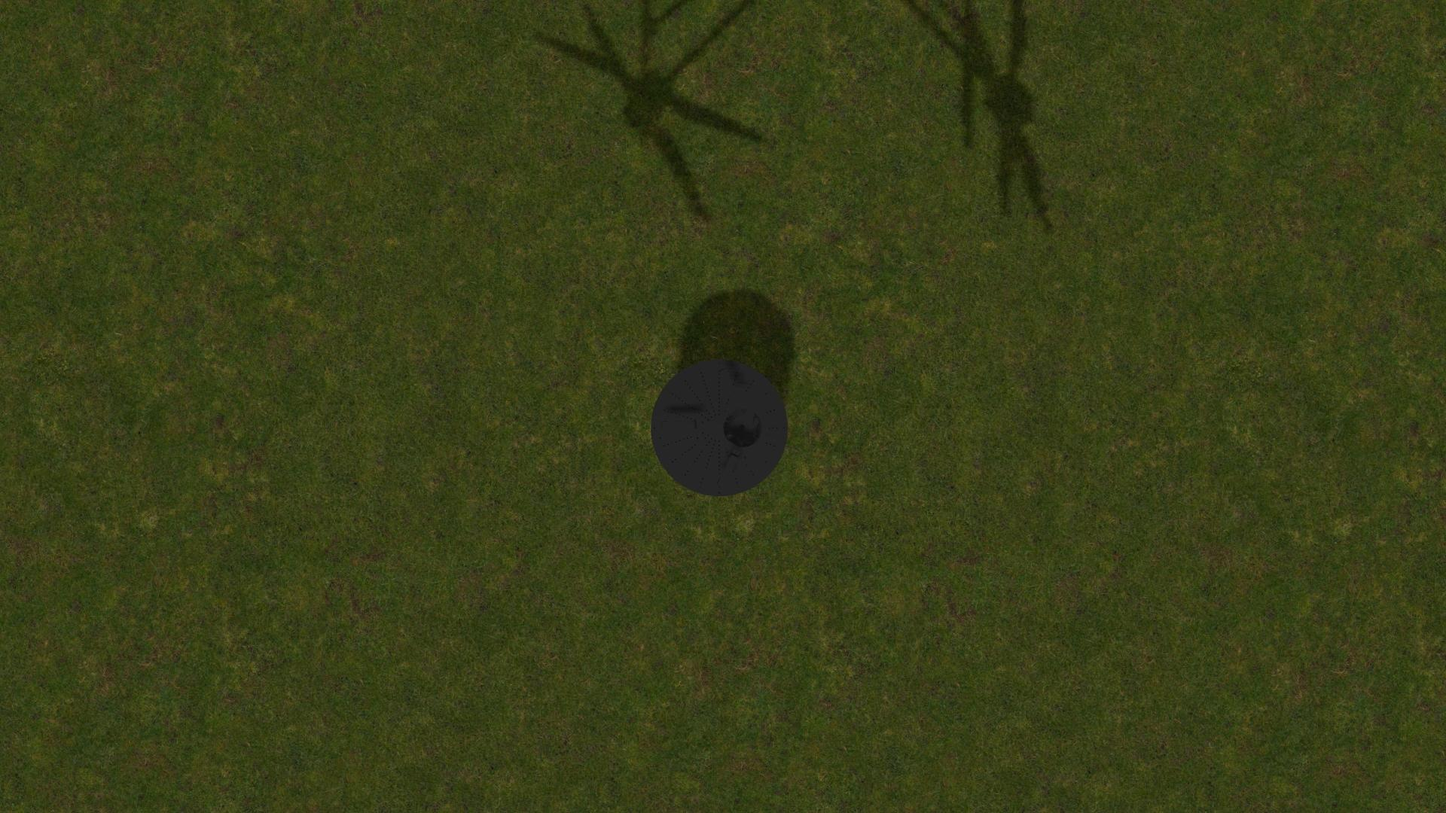alca: (715, 449, 741, 490), (717, 364, 741, 406), (658, 420, 701, 429)
armadilha: (651, 359, 788, 497)
